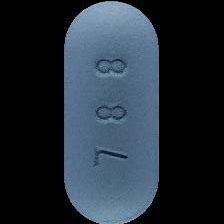63187-189: (0, 0, 224, 224)
